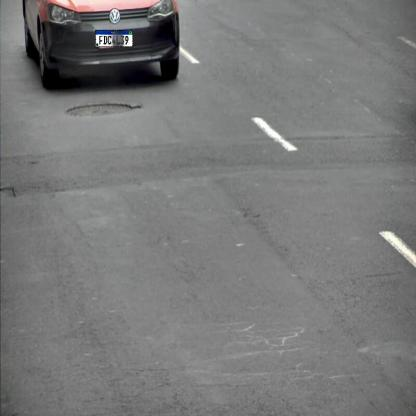PlacaM: (95, 30, 133, 47)
